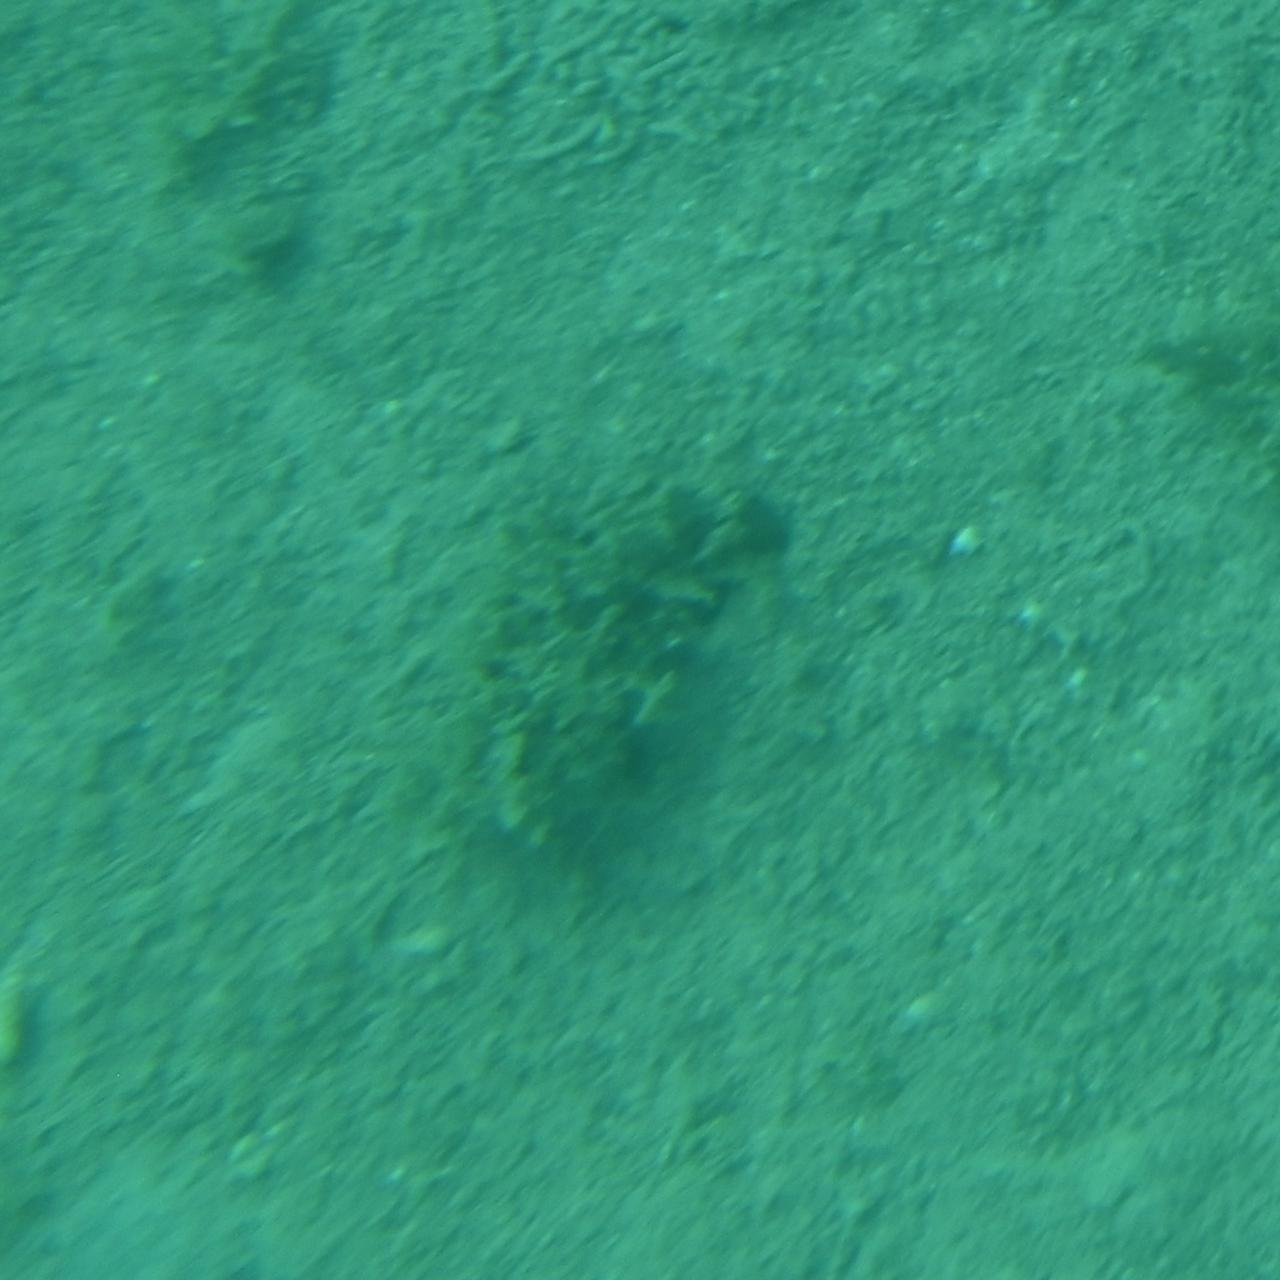Phaeophyceae -cfr Cystoseira-: (475, 483, 805, 874)
